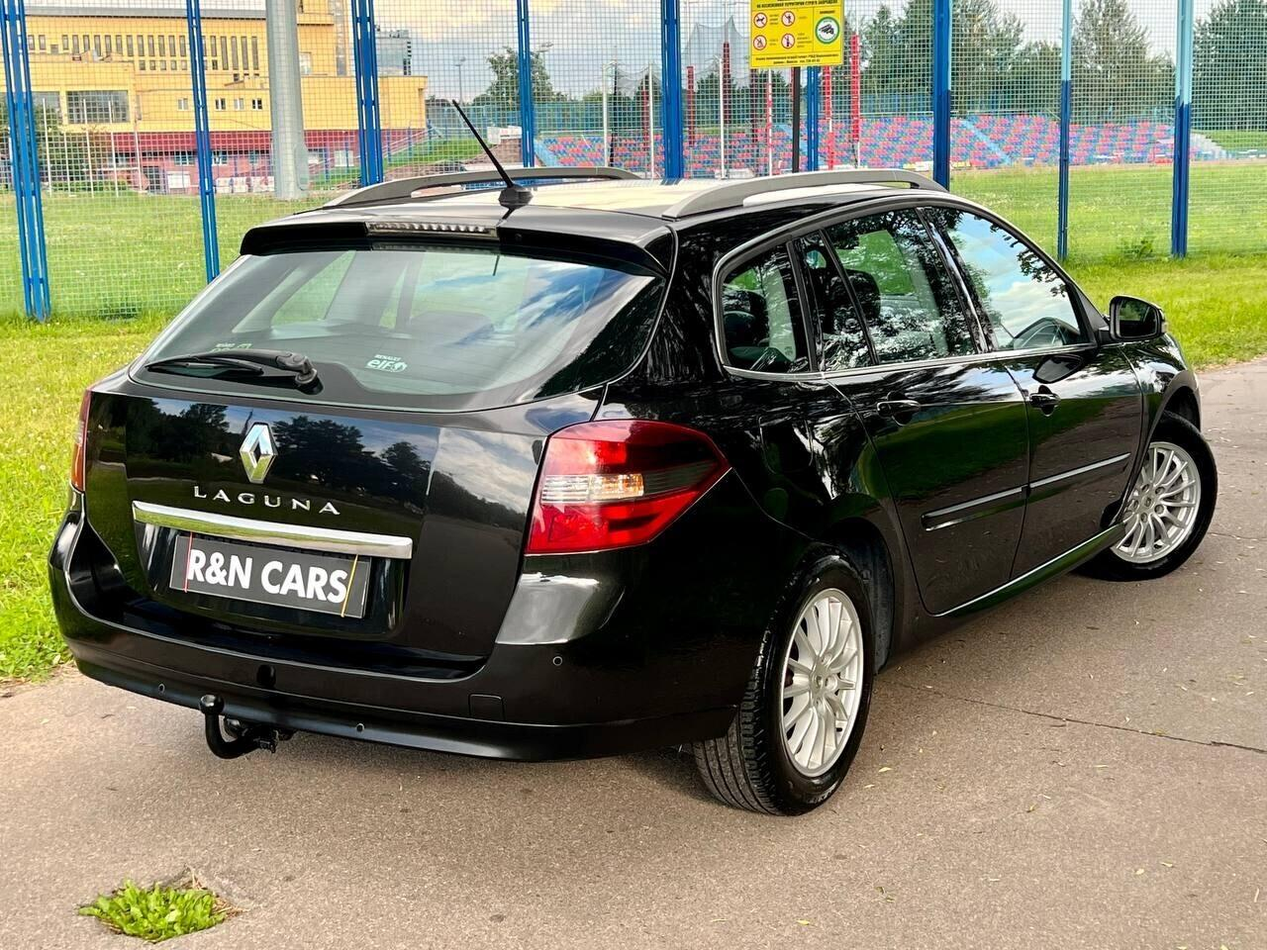Laguna_2010-2015: (45, 161, 1226, 811)
